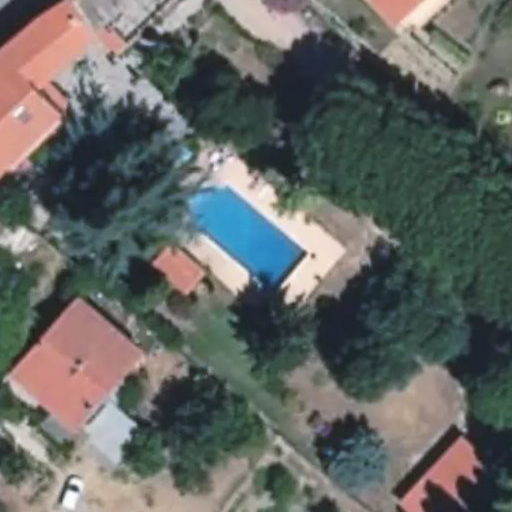pool: (179, 182, 309, 293)
